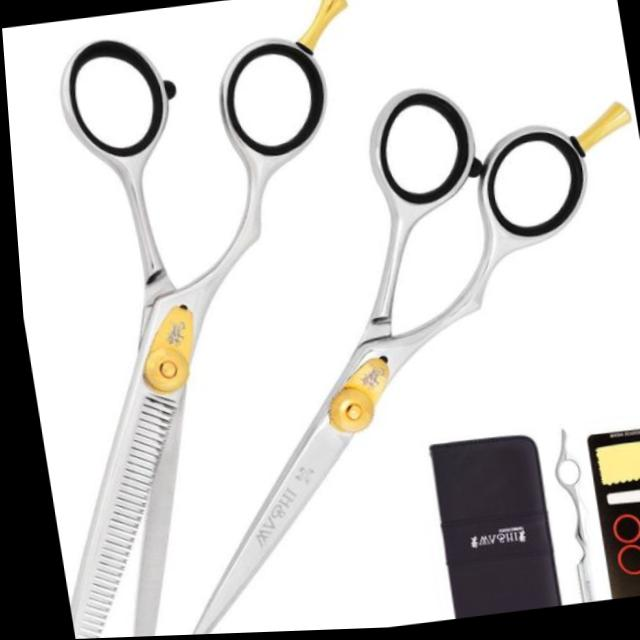scissor: (171, 30, 640, 636)
